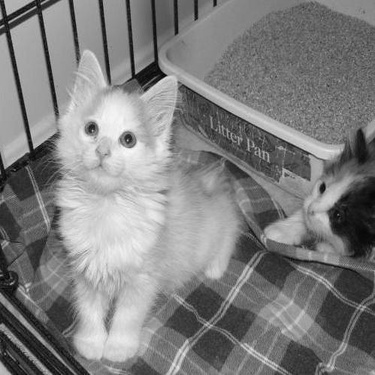cat: (10, 46, 241, 356), (245, 104, 373, 277)
